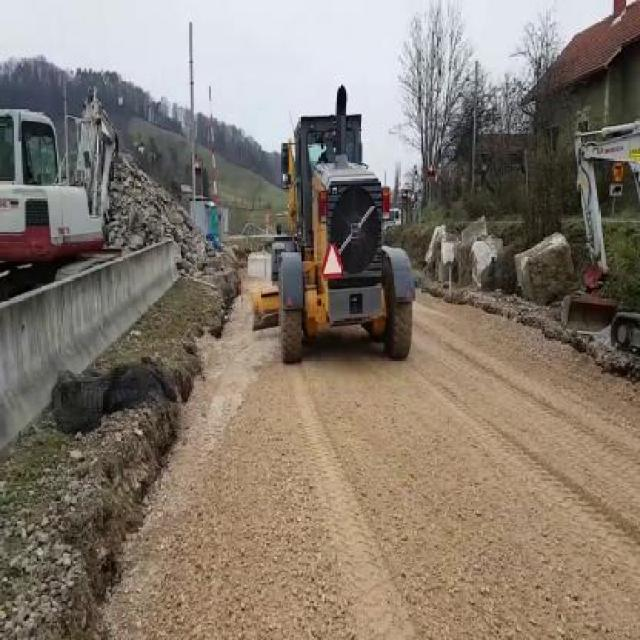Excavator: (0, 84, 122, 298), (564, 118, 639, 353)
